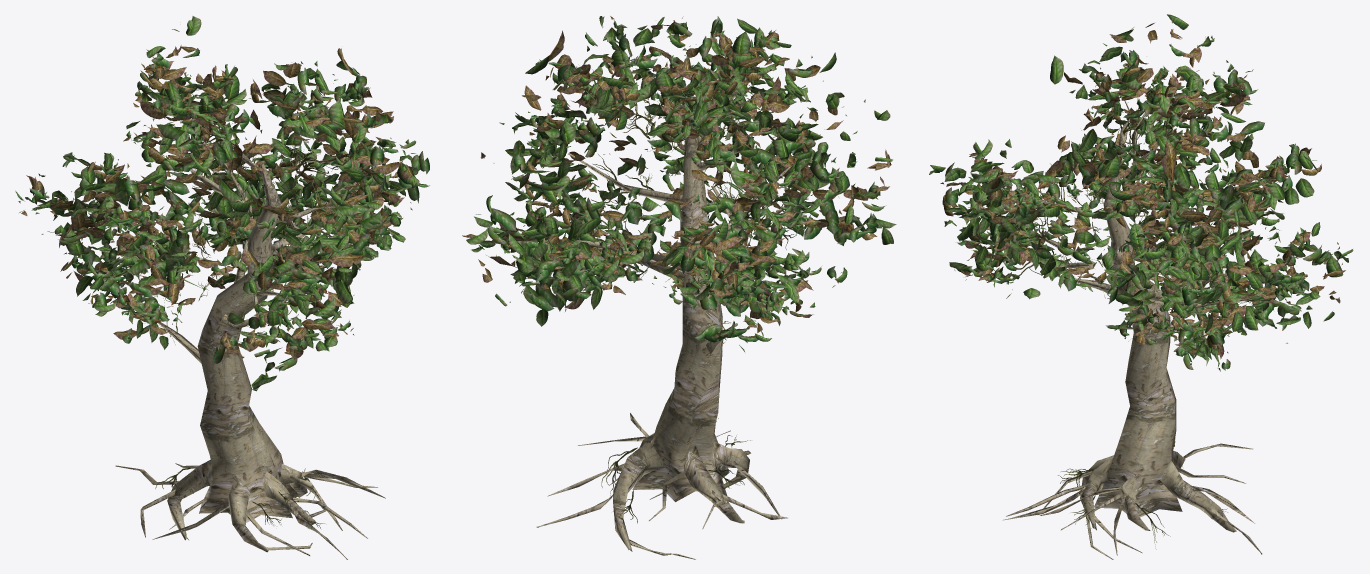
Rendered from kingsville_wood04_lod1.gltf.
3 renders of one model, left to right at view 1: azimuth 30°, elevation 25°; view 2: azimuth 150°, elevation 25°; view 3: azimuth 270°, elevation 25°, orthographic. The views are drawn at different scales.
Parts seen in each view (by area): view 1: Kingsville wood04; view 2: Kingsville wood04; view 3: Kingsville wood04.
Part boxes in pixels (x1,y1,x2,y2): Kingsville wood04: (15, 16, 429, 559); Kingsville wood04: (462, 16, 896, 559); Kingsville wood04: (929, 14, 1353, 559).
Bounding box in the file's own units: 3.46 × 4.73 × 3.73.
Materials: 4 (4 with a texture image).
